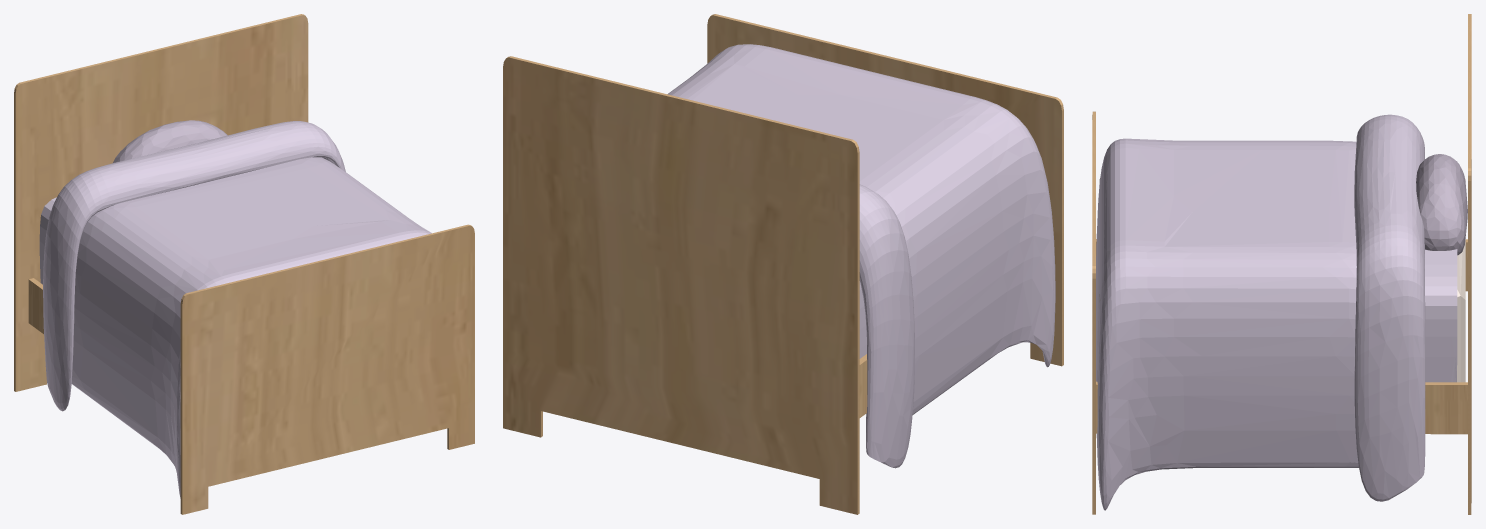
File: sh-bsby-junior-bed.glb
The picture shows the model from 3 angles, left to right: view 1: azimuth 30°, elevation 25°; view 2: azimuth 150°, elevation 25°; view 3: azimuth 270°, elevation 25°; orthographic projection. The views are drawn at different scales.
Visible parts, largest first — view 1: Cube.001_Cube.000, Plane.003_Plane.004, Cube.010_Cube.011, Plane.004_Plane.005; view 2: Cube.001_Cube.000, Plane.003_Plane.004; view 3: Plane.003_Plane.004, Cube.001_Cube.000, Plane.004_Plane.005, Cube.010_Cube.011, Cube.007_Cube.004.
Part boxes in pixels (x1=…): Cube.001_Cube.000: x1=14, y1=14, x2=474, y2=514; Plane.003_Plane.004: x1=43, y1=121, x2=431, y2=498; Cube.010_Cube.011: x1=113, y1=120, x2=227, y2=162; Plane.004_Plane.005: x1=39, y1=197, x2=56, y2=284; Cube.001_Cube.000: x1=503, y1=14, x2=1063, y2=514; Plane.003_Plane.004: x1=667, y1=44, x2=1055, y2=468; Plane.003_Plane.004: x1=1096, y1=114, x2=1425, y2=510; Cube.001_Cube.000: x1=1092, y1=14, x2=1471, y2=514; Plane.004_Plane.005: x1=1425, y1=161, x2=1457, y2=382; Cube.010_Cube.011: x1=1416, y1=154, x2=1467, y2=255; Cube.007_Cube.004: x1=1099, y1=178, x2=1465, y2=382.
Size of the model in its own units: 1 by 1 by 1.
Materials: 5 (1 with a texture image).
